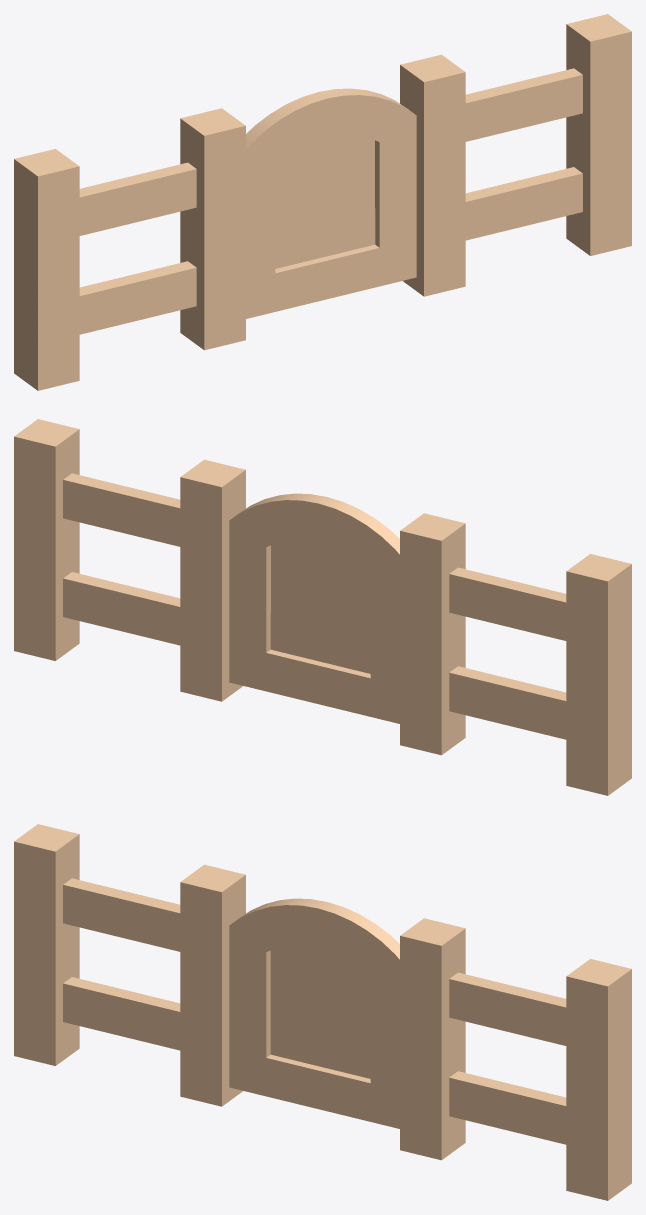
File: fence_gate.glb
3 renders of one model, top to bottom at view 1: azimuth 30°, elevation 25°; view 2: azimuth 150°, elevation 25°; view 3: azimuth 330°, elevation 25°, orthographic.
Parts seen in each view (by area): view 1: fence_gate, gate; view 2: fence_gate, gate; view 3: fence_gate, gate.
Part boxes in pixels (box(x1,y1,x2,y2)): fence_gate: box(14, 14, 631, 390); gate: box(246, 88, 416, 318); fence_gate: box(14, 419, 631, 795); gate: box(229, 493, 399, 723); fence_gate: box(14, 824, 631, 1200); gate: box(229, 898, 399, 1128).
Size of the model in its own units: 1 by 0.345 by 0.07.
